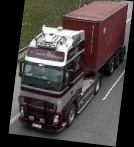truck: (11, 0, 130, 137)
